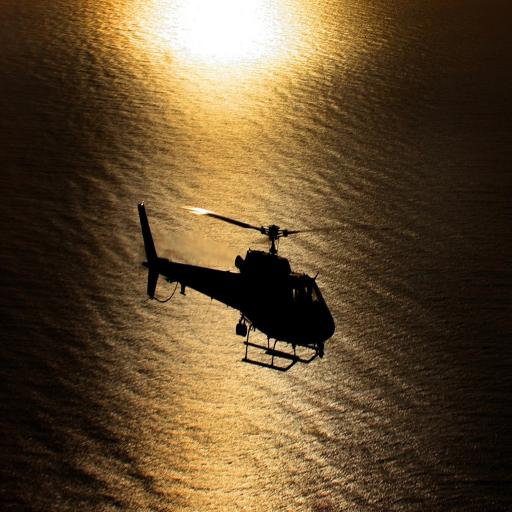helicopter: (101, 172, 387, 379)
